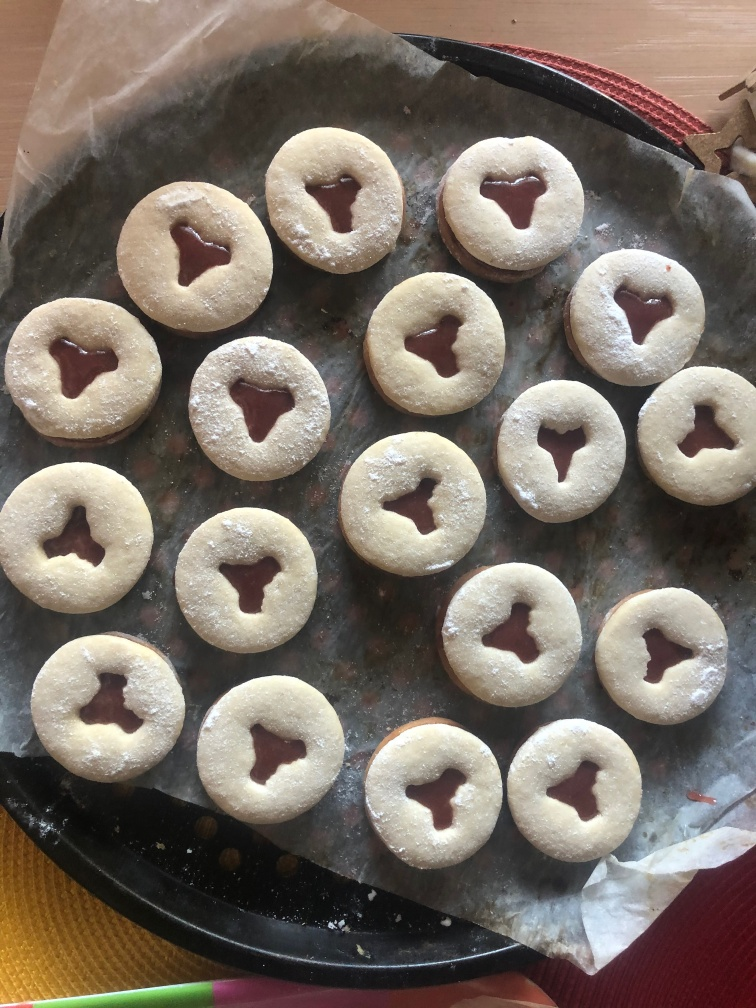christmas shortbread with jam: (115, 176, 273, 332), (29, 629, 183, 783), (194, 672, 345, 829), (3, 459, 153, 615), (5, 296, 162, 445), (433, 133, 586, 279), (263, 123, 407, 278), (175, 502, 317, 655), (340, 428, 485, 574), (366, 716, 501, 872), (367, 267, 505, 418), (189, 333, 327, 484), (506, 715, 640, 866), (443, 560, 581, 705), (567, 248, 710, 385), (499, 379, 629, 527), (594, 582, 728, 722), (638, 363, 756, 507)
